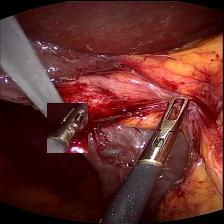Grasper: (138, 94, 194, 150), (47, 102, 88, 152)
